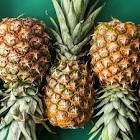Pineapple: (45, 1, 110, 130), (1, 16, 54, 140), (90, 17, 140, 140)
